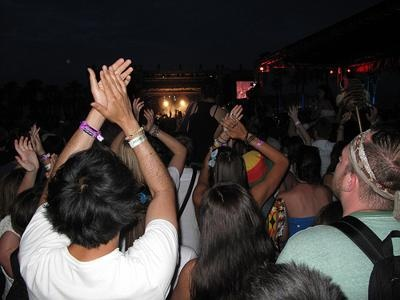person without safety: (16, 137, 162, 300)
